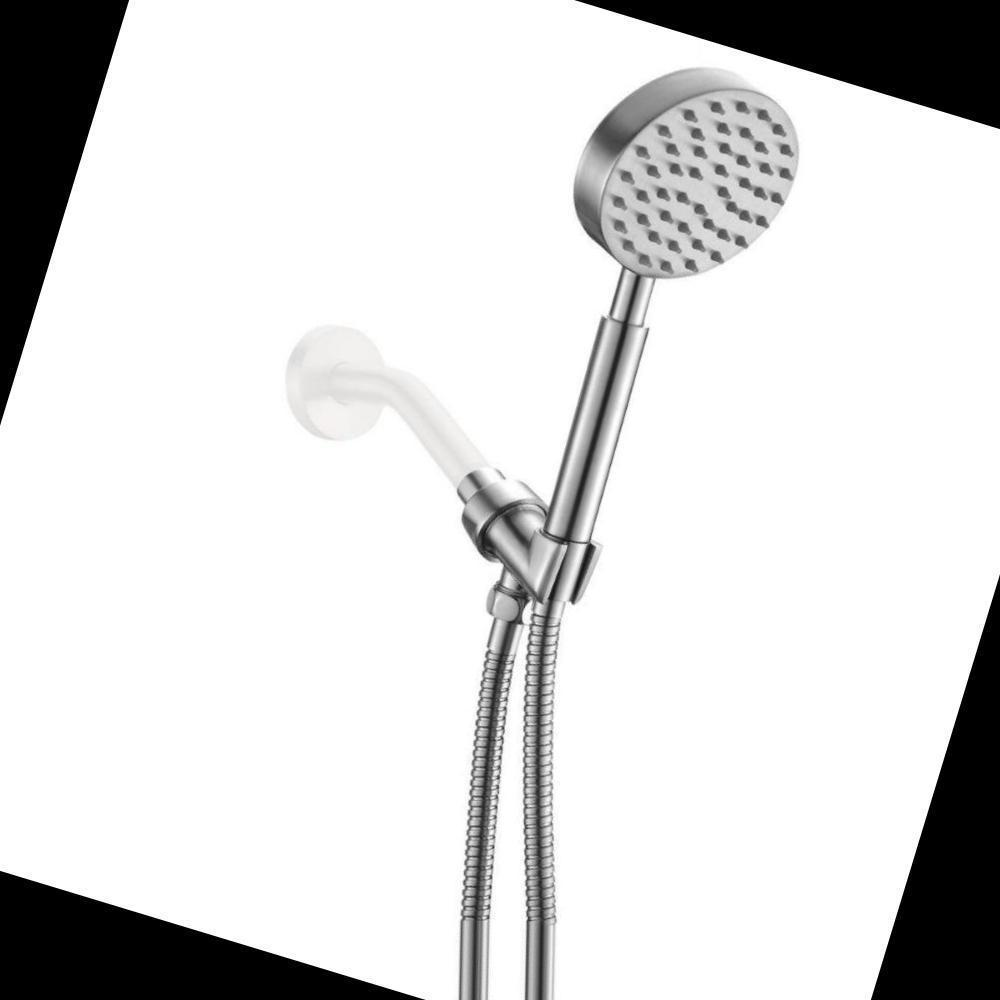Ducha: (95, 0, 865, 1000)
